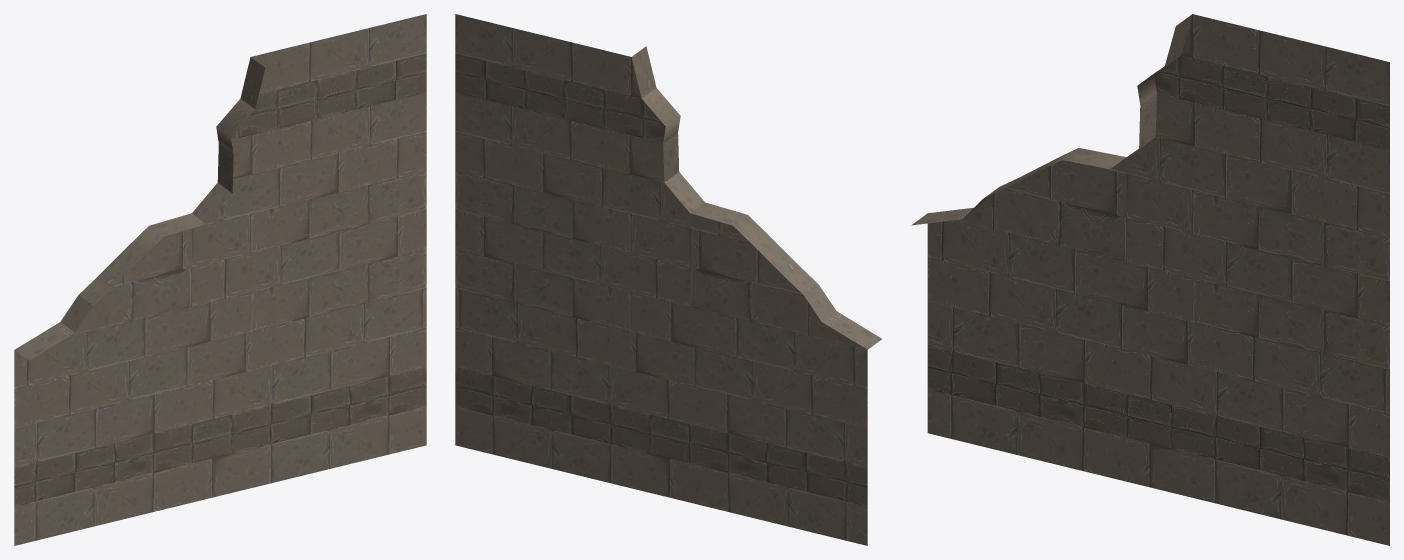
The model's file is Ruins_BaseWall_Broken_03a.fbx.
The picture shows the model from 3 angles, left to right: view 1: azimuth 30°, elevation 25°; view 2: azimuth 150°, elevation 25°; view 3: azimuth 330°, elevation 25°; orthographic projection. The views are drawn at different scales.
Parts seen in each view (by area): view 1: Ruins_BaseWall_Broken_03a; view 2: Ruins_BaseWall_Broken_03a; view 3: Ruins_BaseWall_Broken_03a.
Part boxes in pixels (x1=…): Ruins_BaseWall_Broken_03a: x1=14, y1=14, x2=426, y2=545; Ruins_BaseWall_Broken_03a: x1=455, y1=14, x2=881, y2=545; Ruins_BaseWall_Broken_03a: x1=911, y1=14, x2=1389, y2=545.
Size of the model in its own units: 8 by 8 by 0.5.
1 material, 1 textured.
